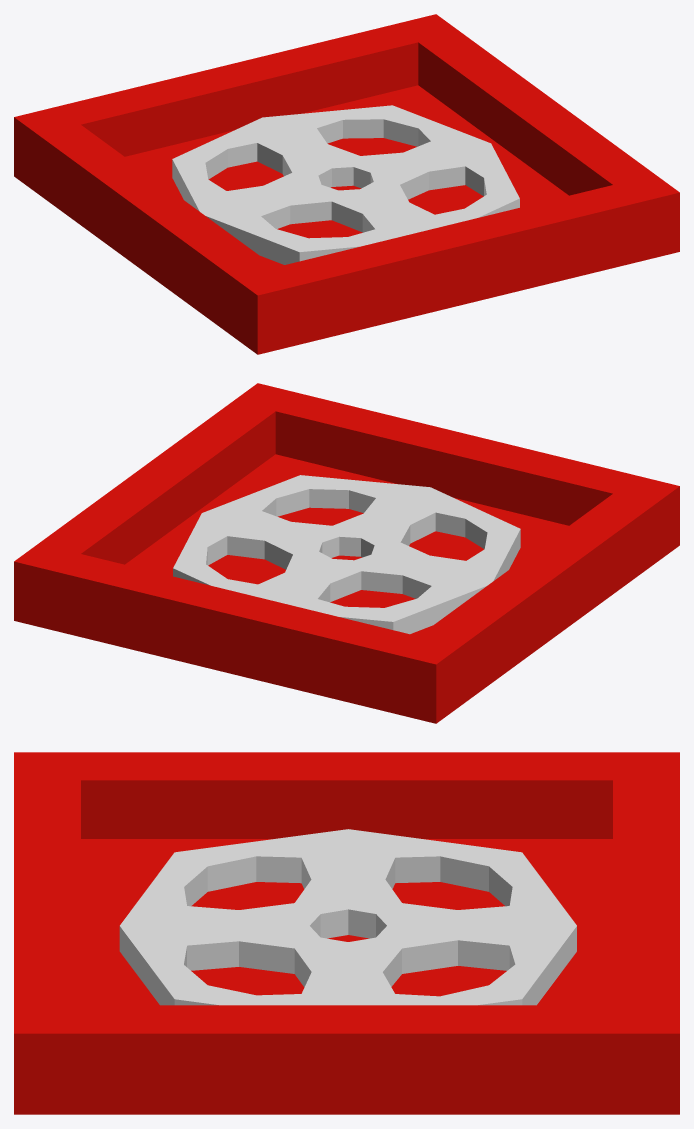
The model's file is Floco.fbx.
The picture shows the model from 3 angles, top to bottom: view 1: azimuth 30°, elevation 25°; view 2: azimuth 150°, elevation 25°; view 3: azimuth 270°, elevation 25°; orthographic projection. The views are drawn at different scales.
Visible parts, largest first — view 1: PickupFloco; view 2: PickupFloco; view 3: PickupFloco.
Boxes of the visible parts, x1,y1,x2,y2 form: PickupFloco: (14,14,679,354); PickupFloco: (14,383,679,723); PickupFloco: (14,752,679,1114).
Size of the model in its own units: 383 by 51.44 by 383.
